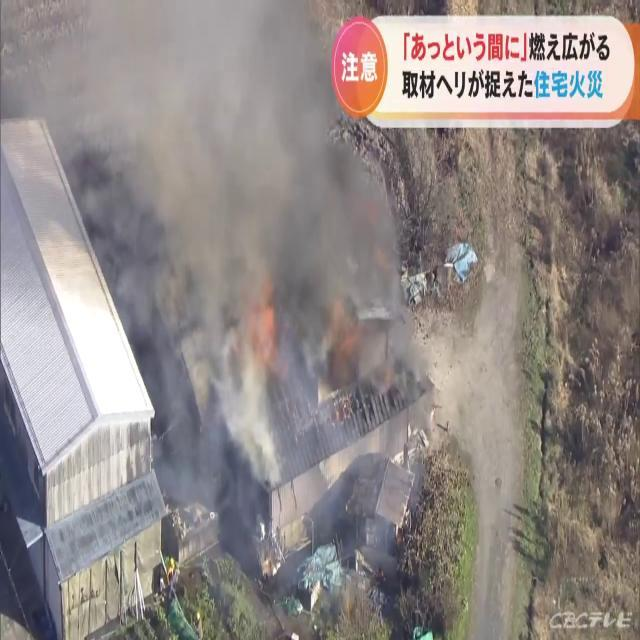Smoke: (125, 2, 438, 592)
